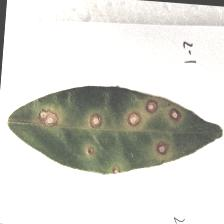canker: (29, 90, 189, 178)
